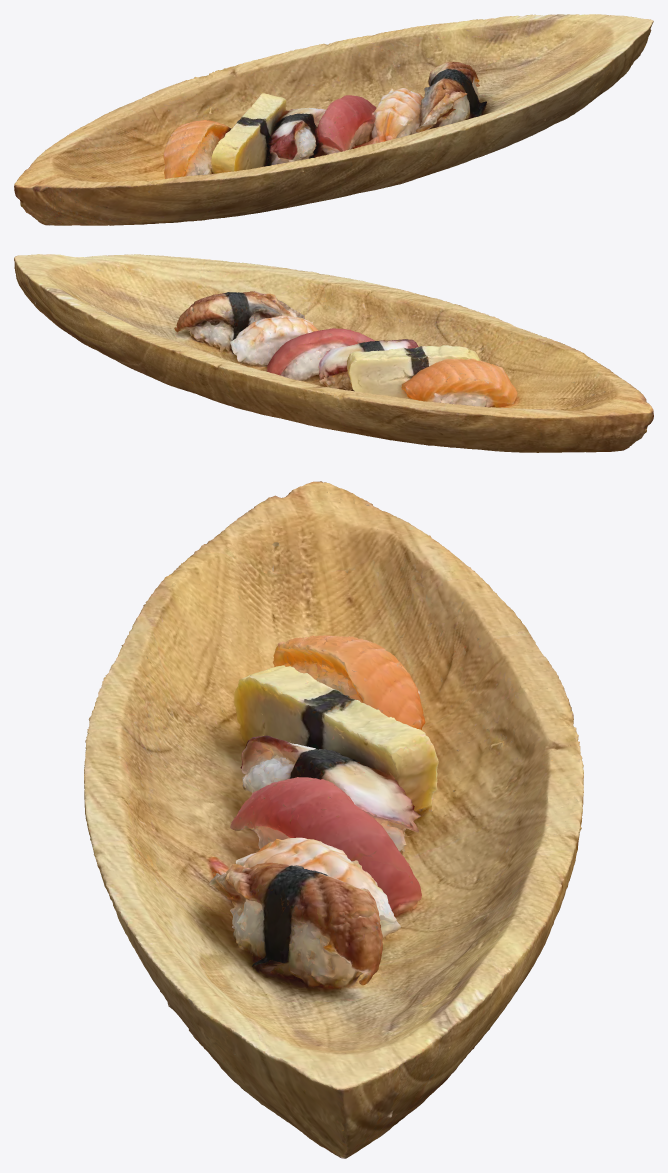
File: sushi-transformed.glb
The picture shows the model from 3 angles, top to bottom: view 1: azimuth 30°, elevation 25°; view 2: azimuth 150°, elevation 25°; view 3: azimuth 270°, elevation 25°; orthographic projection. The views are drawn at different scales.
Visible parts, largest first — view 1: Object_2; view 2: Object_2; view 3: Object_2.
Part boxes in pixels (x1,y1,x2,y2): Object_2: [14, 14, 653, 225]; Object_2: [14, 254, 653, 452]; Object_2: [84, 481, 583, 1158].
Size of the model in its own units: 0.4573 by 0.0398 by 0.1563.
1 material, 1 textured.
